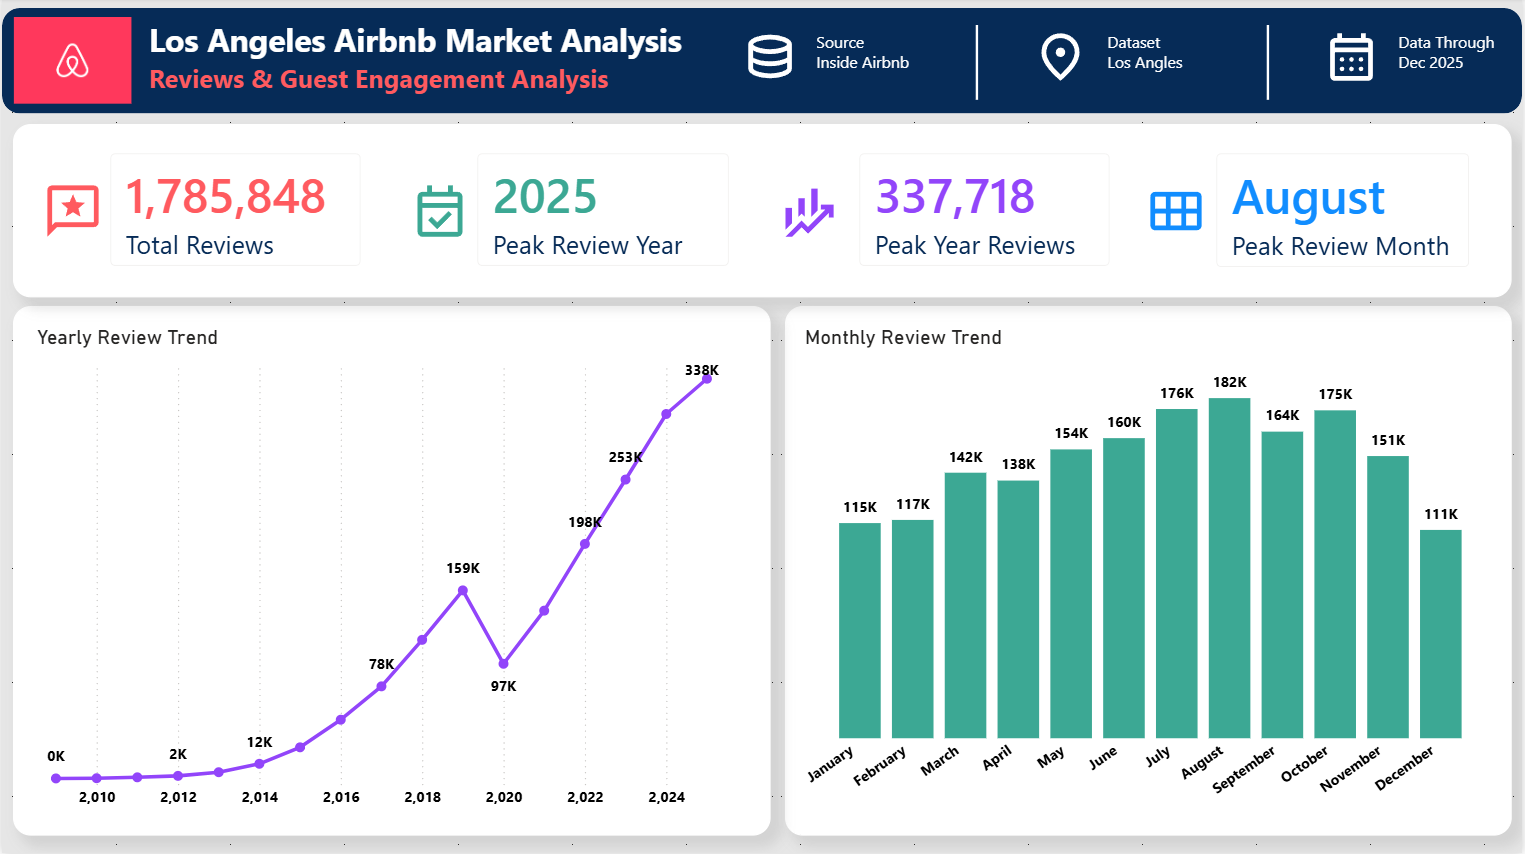

What the dashboard file says about the page in this screenshot:
{"tool":"powerbi","page":{"name":"Reviews & Guest Engagement Analysis","canvas":[1280,720],"ordinal":2},"visuals":[{"type":"shape","box":[0,8,1280,88.9],"z":0,"group":"g1"},{"type":"shape","box":[659.6,259.6,611.6,446.2],"z":0},{"type":"shape","box":[8.9,259.6,638.2,446.2],"z":1000},{"type":"shape","box":[8.9,105.8,1262.2,145.8],"z":2000},{"type":"cardVisual","fields":{"Data":["Sum(public vw_review_yearly_trend.total_reviews)"]},"box":[73.8,113.8,245.3,129.8],"z":3000},{"type":"cardVisual","fields":{"Data":["public vw_review_yearly_trend.Peak Review Year"]},"box":[383.1,113.8,246.2,129.8],"z":4000},{"type":"cardVisual","fields":{"Data":["public vw_review_yearly_trend.Peak Year Reviews"]},"box":[704.9,113.8,245.3,129.8],"z":5000},{"type":"lineChart","title":"Yearly Review Trend","fields":{"Category":["public vw_review_yearly_trend.review_year"],"Y":["Sum(public vw_review_yearly_trend.total_reviews)"]},"box":[24,275.6,590.2,416],"z":6000},{"type":"clusteredColumnChart","title":"Monthly Review Trend","fields":{"Category":["public vw_review_month_seasonality.month"],"Y":["Sum(public vw_review_month_seasonality.total_reviews)"]},"box":[671.1,275.6,581.3,416],"z":7000},{"type":"cardVisual","fields":{"Data":["public vw_review_month_seasonality.Peak Review Month"]},"box":[1005.3,113.8,247.1,130.7],"z":8000},{"type":"group","id":"g1","title":"Group 1","box":[0,8,1280,88.9],"z":9000},{"type":"image","box":[956.4,152,64,54.2],"z":10000},{"type":"image","box":[337.2,152,64,54.2],"z":11000},{"type":"image","box":[646.8,152,64,54.2],"z":12000},{"type":"image","box":[27.6,152,64,54.2],"z":13000},{"type":"image","box":[0,15.7,118.8,73.2],"z":14000,"group":"g1"},{"type":"textbox","box":[118.8,11.8,468.1,85.1],"z":15000,"group":"g1"},{"type":"textbox","box":[622.2,22.2,152.9,63.1],"z":16000,"group":"g1"},{"type":"textbox","box":[867.1,22.2,152.9,63.1],"z":17000,"group":"g1"},{"type":"textbox","box":[1112,22.2,152.9,63.1],"z":18000,"group":"g1"},{"type":"image","box":[622.2,22.2,48.9,53.3],"z":19000,"group":"g1"},{"type":"image","box":[867.6,22.2,48,53.3],"z":20000,"group":"g1"},{"type":"image","box":[1112,22.2,48,53.3],"z":21000,"group":"g1"},{"type":"shape","box":[814.4,22.2,13.3,63.1],"z":22000,"group":"g1"},{"type":"shape","box":[1059.6,22.2,13.3,63.1],"z":23000,"group":"g1"}]}

Visuals, with their boxes in screenshot pixels (x1, y1, x2, y2), scaled from the page's 1280x720 canvas onto the 1525x854 screenshot:
shape: 0/9/1524/115
shape: 786/308/1515/837
shape: 11/308/771/837
shape: 11/125/1514/298
cardVisual - Sum(public vw_review_yearly_trend.total_reviews): 88/135/380/289
cardVisual - public vw_review_yearly_trend.Peak Review Year: 456/135/750/289
cardVisual - public vw_review_yearly_trend.Peak Year Reviews: 840/135/1132/289
"Yearly Review Trend" lineChart: 29/327/732/820
"Monthly Review Trend" clusteredColumnChart: 800/327/1492/820
cardVisual - public vw_review_month_seasonality.Peak Review Month: 1198/135/1492/290
"Group 1" group: 0/9/1524/115
image: 1139/180/1216/245
image: 402/180/478/245
image: 771/180/847/245
image: 33/180/109/245
image: 0/19/142/105
textbox: 142/14/699/115
textbox: 741/26/923/101
textbox: 1033/26/1215/101
textbox: 1325/26/1507/101
image: 741/26/800/90
image: 1034/26/1091/90
image: 1325/26/1382/90
shape: 970/26/986/101
shape: 1262/26/1278/101
